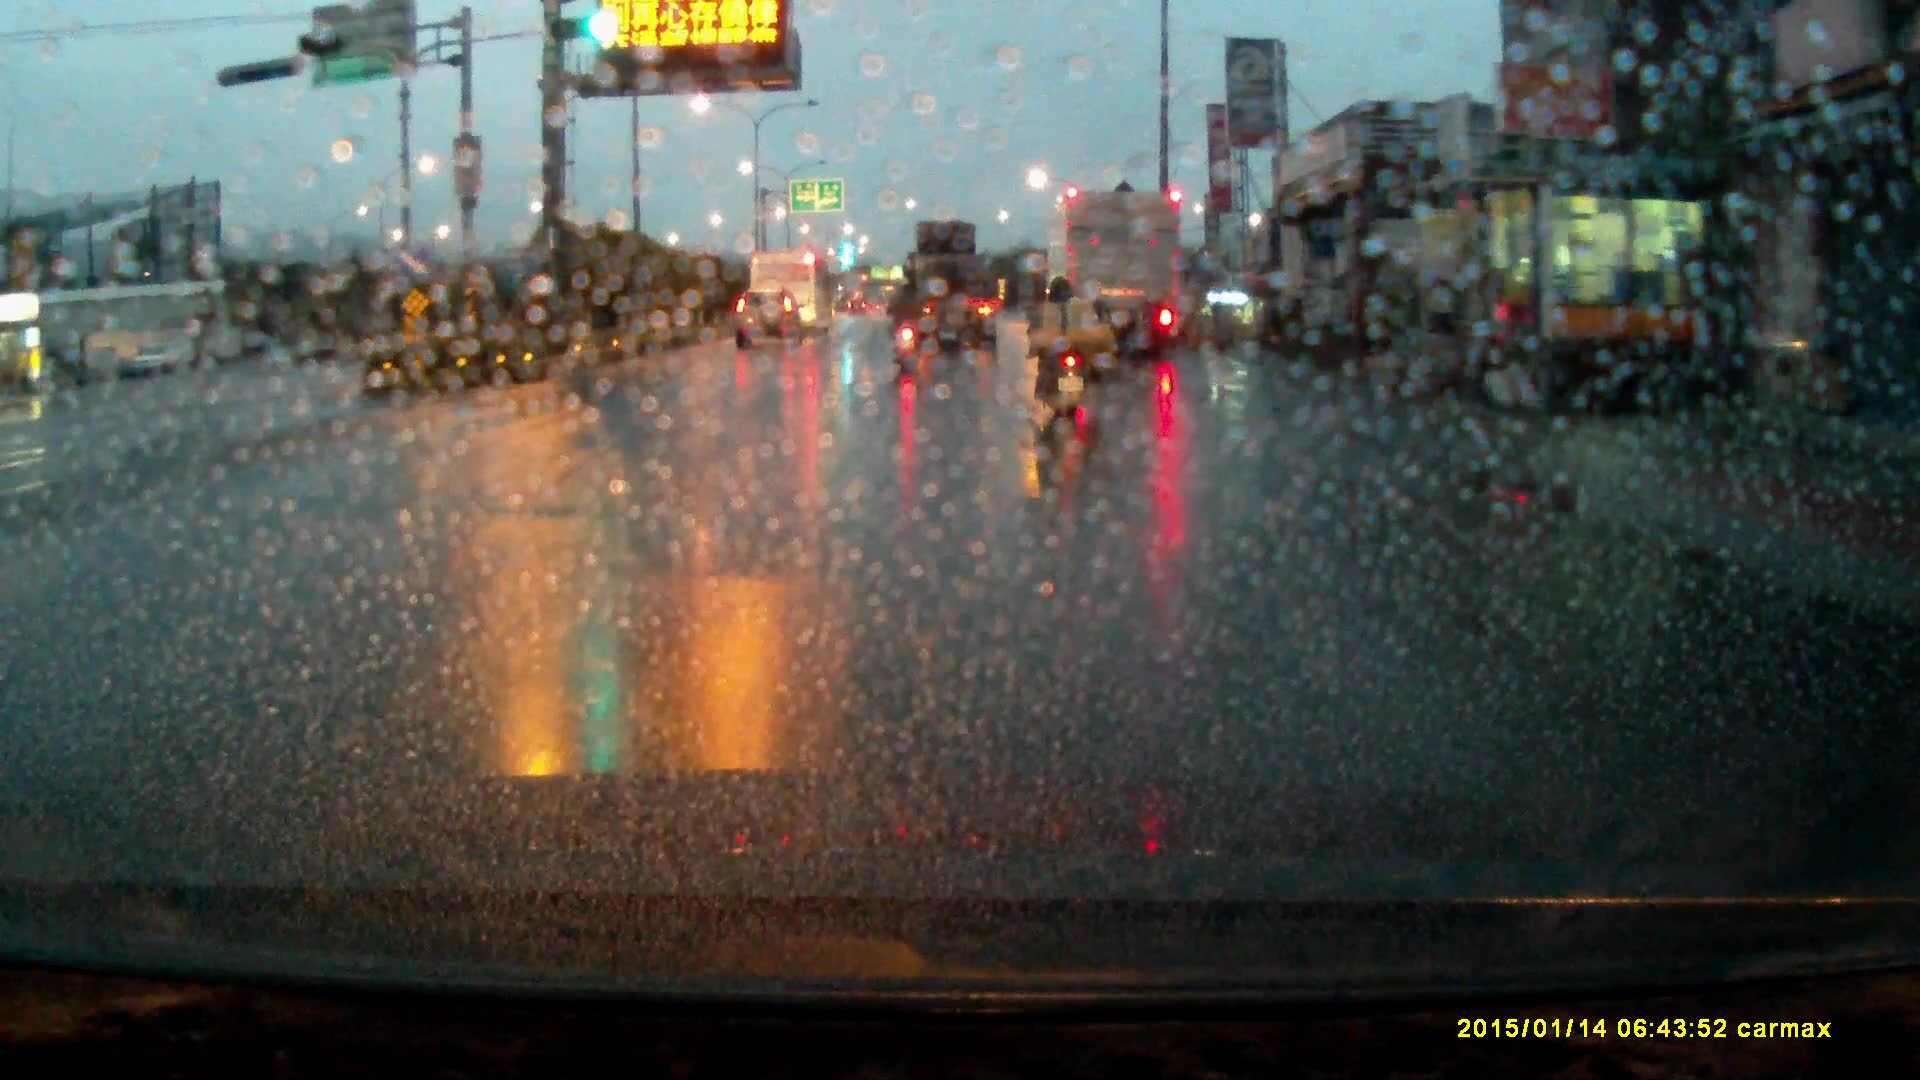rider: (1025, 269, 1106, 427), (891, 268, 930, 365)
vehicle: (1048, 194, 1187, 361), (899, 219, 1000, 355), (764, 244, 838, 327), (736, 285, 807, 351)
